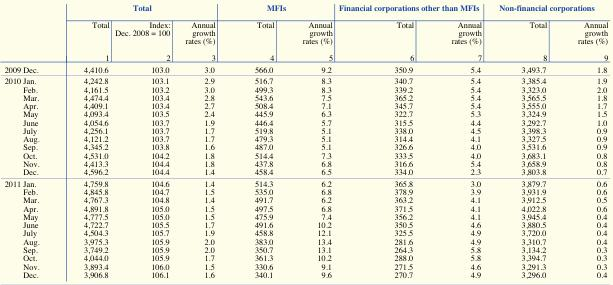table: (3, 4, 607, 278)
table column: (335, 4, 431, 278), (489, 4, 561, 278), (111, 4, 177, 278), (431, 4, 489, 278), (177, 4, 234, 278), (234, 4, 287, 278), (60, 4, 111, 278), (287, 4, 335, 278), (561, 4, 607, 278), (21, 4, 60, 278), (3, 4, 21, 278)
table column header: (3, 4, 607, 63)
table row: (3, 16, 607, 63), (3, 4, 607, 16), (3, 63, 607, 75), (3, 75, 607, 85), (3, 167, 607, 177), (3, 177, 607, 187), (3, 101, 607, 110), (3, 134, 607, 143), (3, 187, 607, 196), (3, 212, 607, 221), (3, 245, 607, 254), (3, 85, 607, 93), (3, 93, 607, 101), (3, 110, 607, 118), (3, 118, 607, 126), (3, 126, 607, 134), (3, 143, 607, 151), (3, 151, 607, 159), (3, 159, 607, 167), (3, 196, 607, 204), (3, 204, 607, 212), (3, 221, 607, 229), (3, 229, 607, 237), (3, 237, 607, 245), (3, 254, 607, 262), (3, 262, 607, 270), (3, 270, 607, 278)
table spanning cell: (60, 4, 234, 16), (335, 4, 489, 16), (3, 75, 21, 177), (3, 177, 21, 278), (489, 4, 607, 16), (234, 4, 335, 16)
